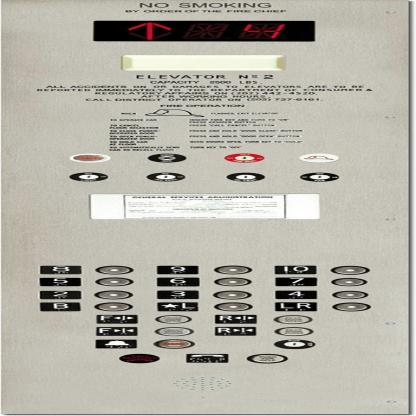10: (273, 266, 316, 274)
2: (38, 290, 82, 299)
3: (155, 290, 199, 299)
4: (273, 290, 317, 299)
5: (37, 277, 82, 286)
6: (155, 277, 200, 287)
7: (271, 277, 317, 286)
8: (38, 265, 82, 275)
9: (154, 265, 198, 274)
B: (38, 302, 82, 311)
L: (155, 302, 199, 311)
LR: (274, 302, 318, 311)
alarm: (93, 339, 138, 348)
blur: (146, 153, 186, 163)
call: (184, 353, 229, 363), (118, 354, 160, 363)
close: (213, 326, 257, 336), (94, 326, 137, 336)
empty: (120, 54, 287, 71), (93, 265, 134, 275), (212, 290, 252, 300), (212, 302, 254, 311), (93, 277, 134, 286), (93, 290, 133, 299), (92, 302, 132, 311), (213, 265, 253, 274), (212, 277, 252, 286), (330, 302, 370, 311), (330, 290, 368, 299), (329, 266, 370, 274), (330, 278, 367, 286)
hat: (298, 153, 340, 163)
keyhole: (272, 339, 316, 349), (297, 172, 339, 182), (223, 153, 264, 163), (224, 172, 264, 182), (146, 172, 184, 182), (68, 172, 109, 181)
led: (90, 20, 316, 42)
open: (212, 314, 259, 324), (94, 314, 138, 324)
text: (152, 338, 195, 349), (69, 153, 111, 163), (272, 314, 313, 324), (152, 314, 192, 324), (154, 326, 194, 336), (273, 326, 313, 336), (244, 354, 288, 363)
